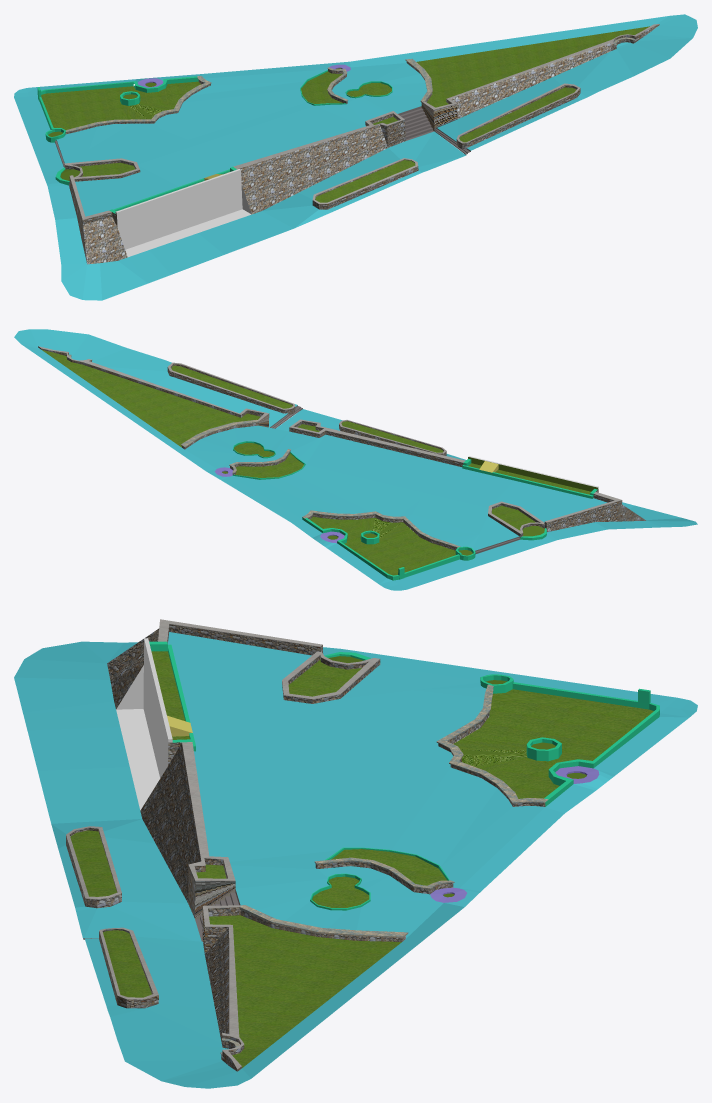
The model's file is Praca.fbx.
3 views of the same model, one above another, from view 1: azimuth 30°, elevation 25°; view 2: azimuth 150°, elevation 25°; view 3: azimuth 270°, elevation 25° (orthographic). The views are drawn at different scales.
Parts seen in each view (by area): view 1: Praca-PisoConcreto, Praca-MuroPedra, Praca-Grama, Praca-Monumento, Praca-Cimento, Praca-CimentoVerde, Praca-BancoConcreto; view 2: Praca-PisoConcreto, Praca-Grama, Praca-MuroPedra, Praca-Cimento, Praca-CimentoVerde, Praca-BancoConcreto; view 3: Praca-PisoConcreto, Praca-Grama, Praca-MuroPedra, Praca-Cimento, Praca-CimentoVerde, Praca-Monumento, Praca-BancoConcreto, Praca-RodaPedra.
Part boxes in pixels (x1,y1,x2,y2): Praca-PisoConcreto: [14, 14, 697, 300]; Praca-MuroPedra: [64, 24, 659, 264]; Praca-Grama: [41, 26, 649, 202]; Praca-Monumento: [115, 169, 251, 257]; Praca-Cimento: [55, 24, 658, 219]; Praca-CimentoVerde: [37, 70, 392, 213]; Praca-BancoConcreto: [65, 37, 635, 132]; Praca-PisoConcreto: [14, 329, 697, 590]; Praca-Grama: [42, 350, 597, 575]; Praca-MuroPedra: [38, 346, 645, 550]; Praca-Cimento: [38, 346, 621, 553]; Praca-CimentoVerde: [232, 441, 597, 580]; Praca-BancoConcreto: [68, 354, 460, 547]; Praca-PisoConcreto: [14, 632, 697, 1088]; Praca-Grama: [70, 651, 653, 1067]; Praca-MuroPedra: [66, 624, 545, 1071]; Praca-Cimento: [66, 619, 379, 1069]; Praca-CimentoVerde: [149, 641, 659, 910]; Praca-Monumento: [116, 638, 172, 810]; Praca-BancoConcreto: [220, 684, 548, 1054]; Praca-RodaPedra: [430, 766, 599, 902].
Bounding box in the file's own units: 8551 × 986 × 4314.
